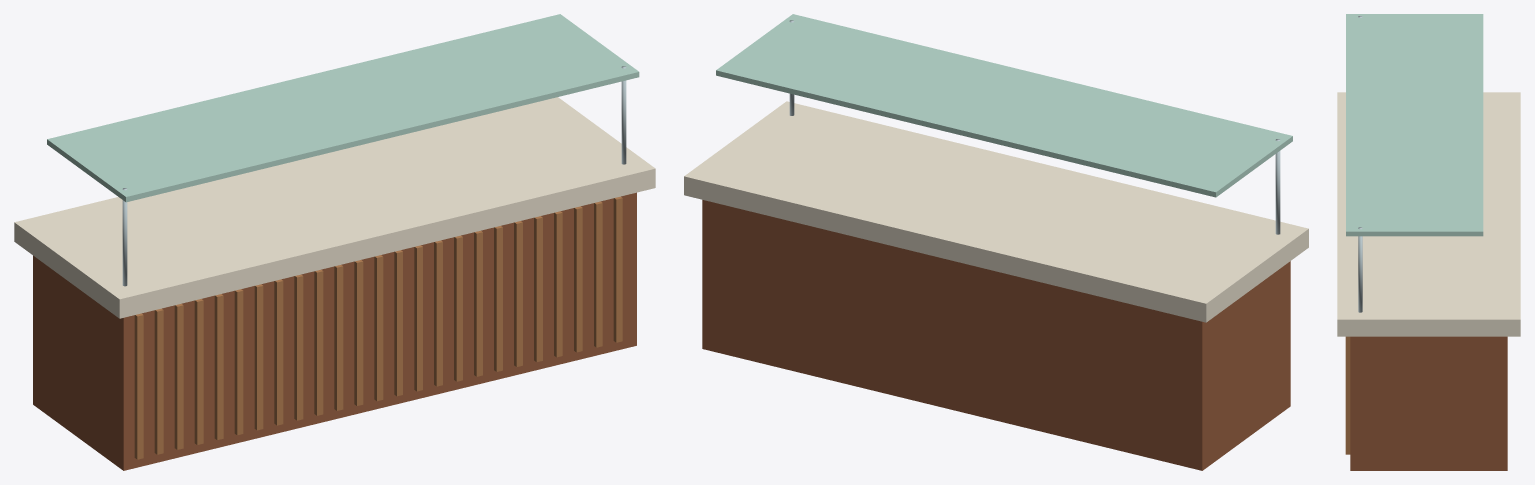
Rendered from display-counter.glb.
3 views of the same model, side by side, from view 1: azimuth 30°, elevation 25°; view 2: azimuth 150°, elevation 25°; view 3: azimuth 270°, elevation 25° (orthographic). The views are drawn at different scales.
Visible parts, largest first — view 1: Stone countertop, Oak cabinet, Glass canopy, Oak fluting.007, Oak fluting, Oak fluting.001, Oak fluting.002, Oak fluting.004, Oak fluting.005, Oak fluting.006, Oak fluting.008, Oak fluting.010 (+16 smaller); view 2: Oak cabinet, Stone countertop, Glass canopy; view 3: Glass canopy, Stone countertop, Oak cabinet, Oak fluting.024, Glass frame.001.
Boxes of the visible parts, box(x1,y1,x2,y2) form: Stone countertop: box(14, 97, 655, 318); Oak cabinet: box(33, 192, 636, 470); Glass canopy: box(47, 14, 639, 202); Oak fluting.007: box(274, 279, 283, 425); Oak fluting: box(134, 313, 143, 459); Oak fluting.001: box(154, 308, 163, 454); Oak fluting.002: box(174, 303, 183, 449); Oak fluting.004: box(214, 294, 223, 440); Oak fluting.005: box(234, 289, 243, 435); Oak fluting.006: box(254, 284, 263, 430); Oak fluting.008: box(294, 274, 303, 420); Oak fluting.010: box(334, 265, 343, 410); Oak cabinet: box(702, 200, 1290, 470); Stone countertop: box(684, 101, 1308, 322); Glass canopy: box(716, 14, 1292, 197); Glass canopy: box(1346, 14, 1483, 236); Stone countertop: box(1337, 92, 1520, 336); Oak cabinet: box(1350, 336, 1507, 470); Oak fluting.024: box(1345, 336, 1350, 454); Glass frame.001: box(1358, 227, 1362, 312).
Size of the model in its own units: 3.76 by 1.85 by 1.28.
